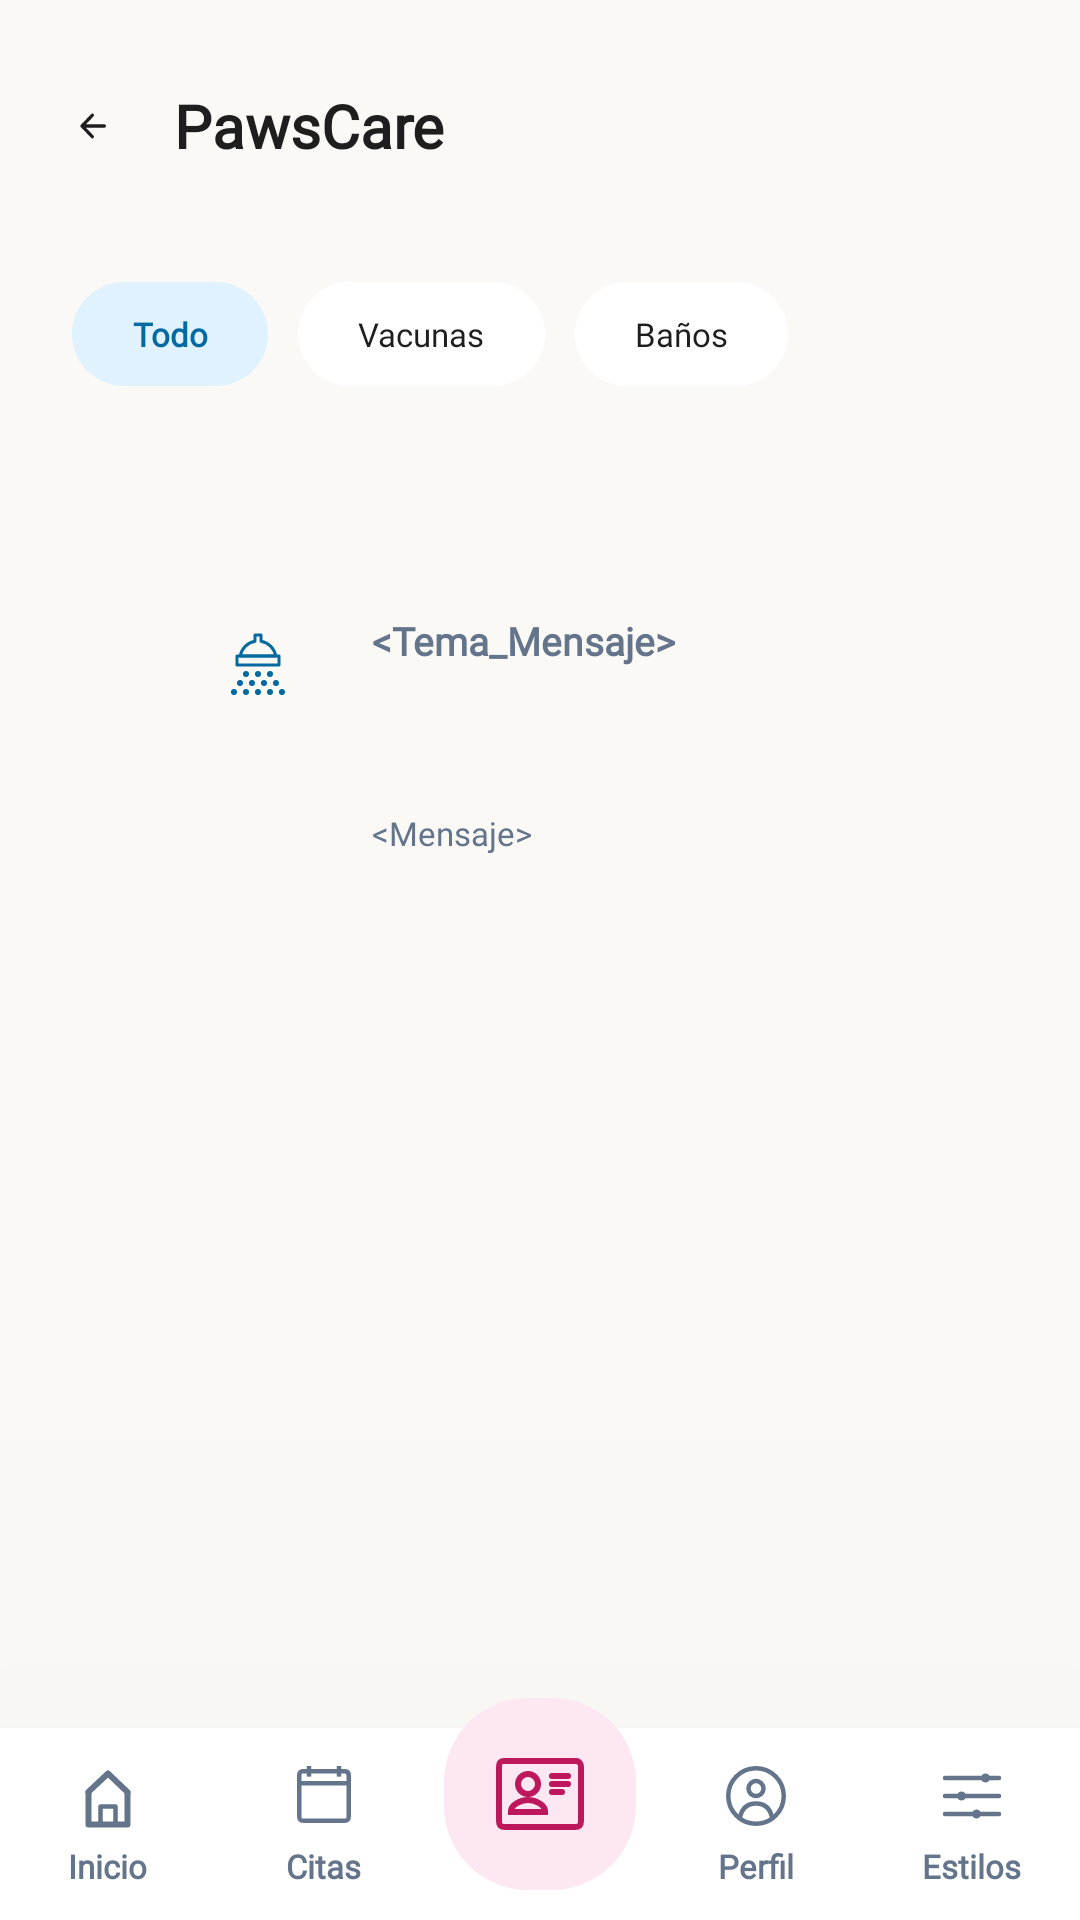

Named icons in this screenshot (1080px x 1920px) and their centers, point (x, y):
back: point (93, 126)
extra bano: point (258, 664)
